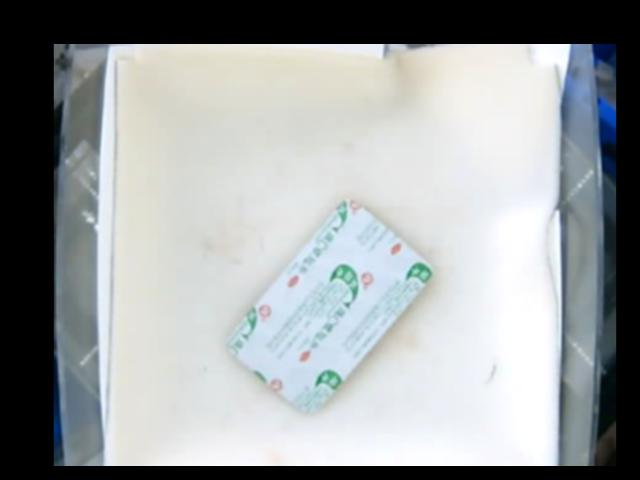Medicine: (226, 199, 430, 414)
